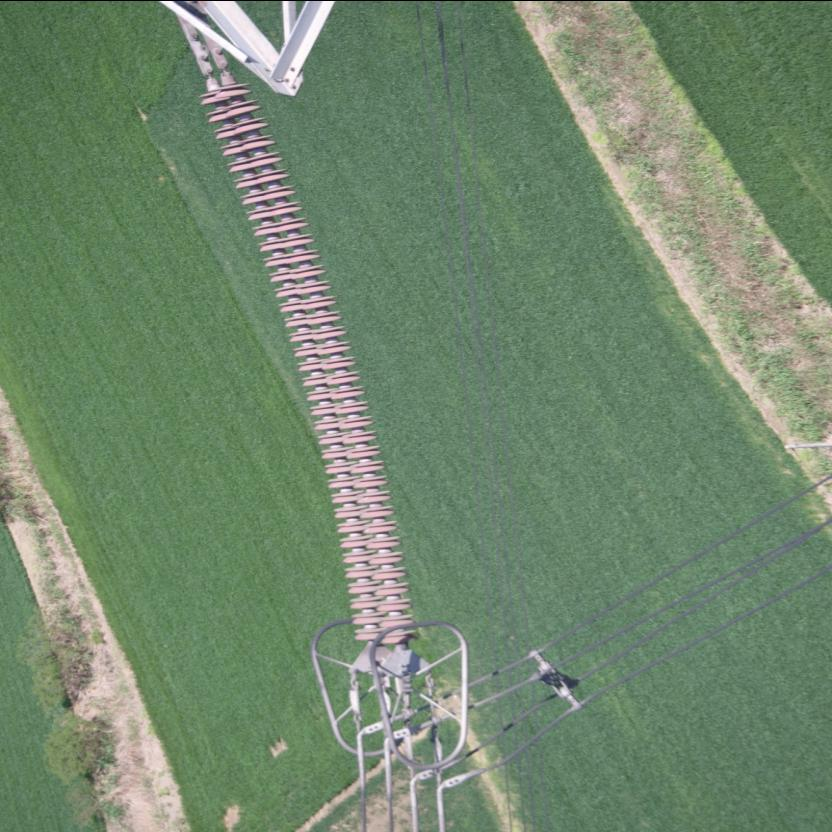insulator: (194, 47, 418, 655)
